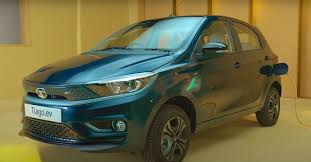Tiago: (15, 8, 284, 162)
